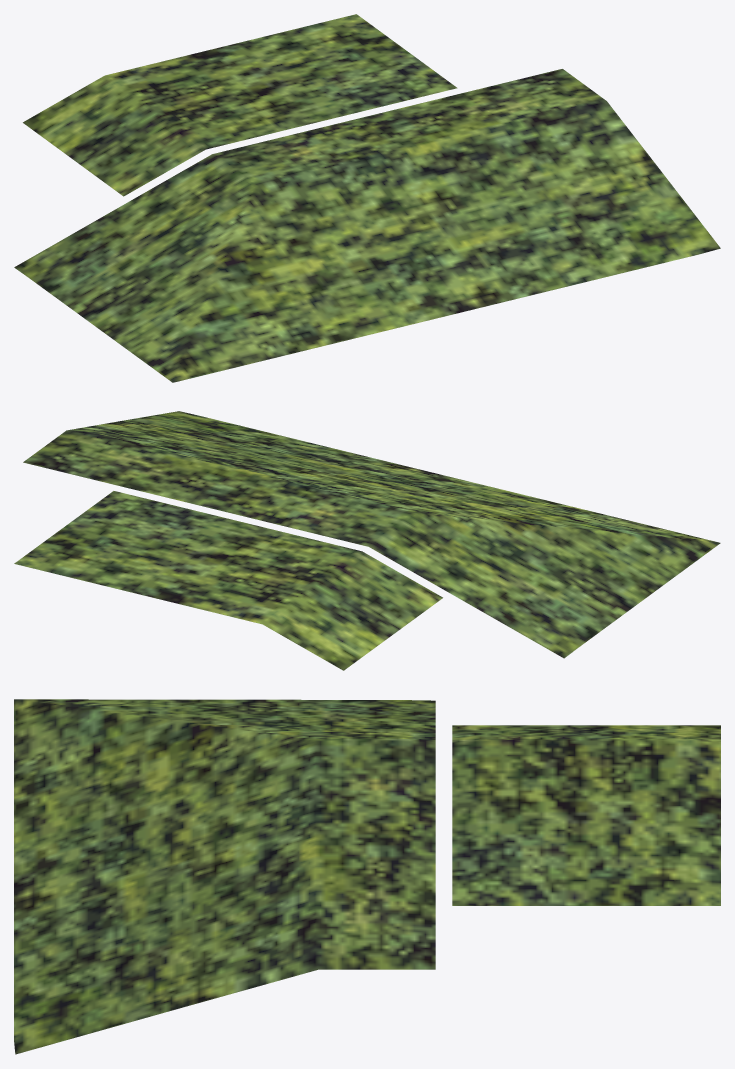
The picture shows the model from 3 angles, top to bottom: view 1: azimuth 30°, elevation 25°; view 2: azimuth 150°, elevation 25°; view 3: azimuth 270°, elevation 25°; orthographic projection. The views are drawn at different scales.
Visible parts, largest first — view 1: Joint_0_Object_0; view 2: Joint_0_Object_0; view 3: Joint_0_Object_0.
Part boxes in pixels (x1=…): Joint_0_Object_0: x1=14, y1=14, x2=720, y2=382; Joint_0_Object_0: x1=14, y1=411, x2=720, y2=670; Joint_0_Object_0: x1=14, y1=699, x2=720, y2=1054.
Size of the model in its own units: 5011 by 579 by 4213.
1 material, 1 textured.
